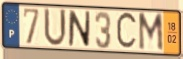3: (94, 9, 112, 50)
7: (22, 7, 41, 47)
C: (115, 10, 139, 52)
M: (137, 12, 165, 54)
N: (67, 10, 92, 49)
U: (42, 7, 68, 49)
